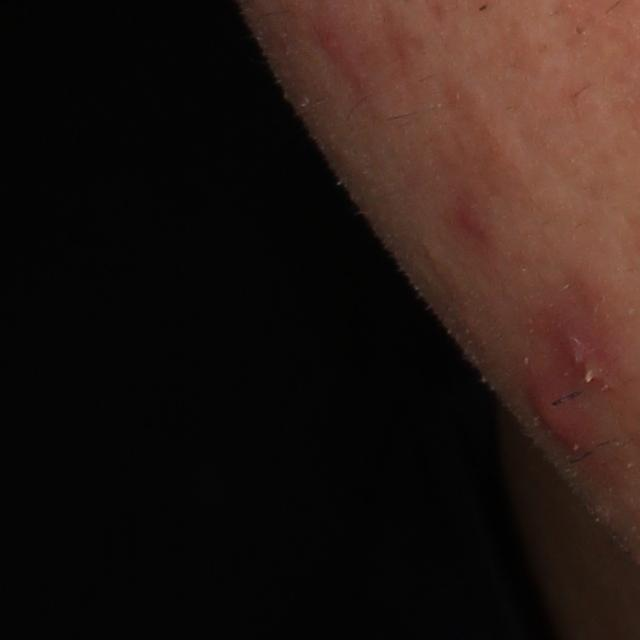papule: (548, 314, 635, 401), (526, 369, 600, 459)
